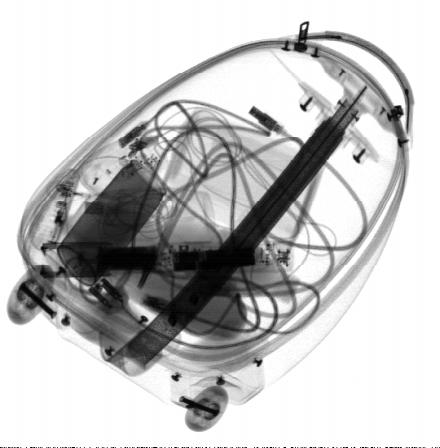Baton: (40, 241, 279, 278)
